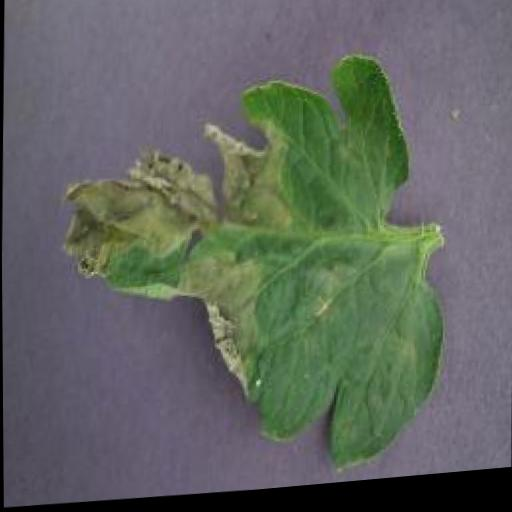Late Blight: (50, 50, 451, 499)
